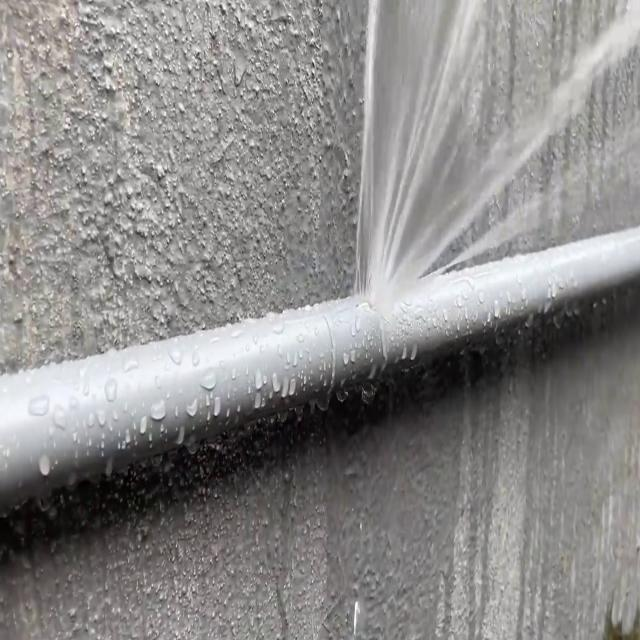leak: (352, 0, 640, 325)
